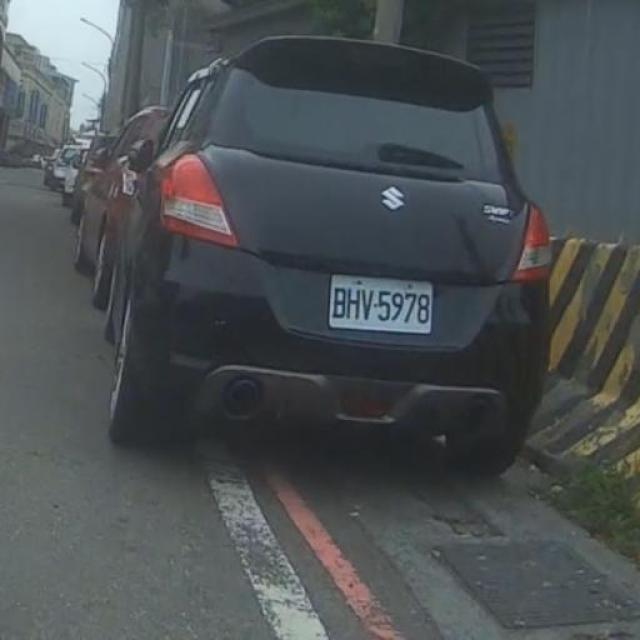Legalparking: (40, 30, 607, 594)
